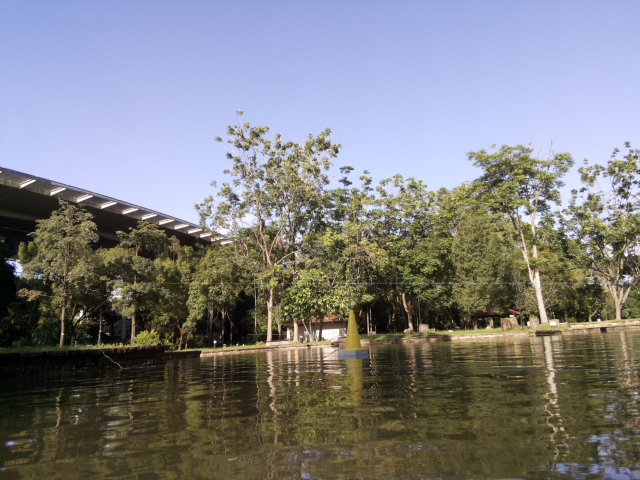checkpoint: (331, 307, 371, 361)
